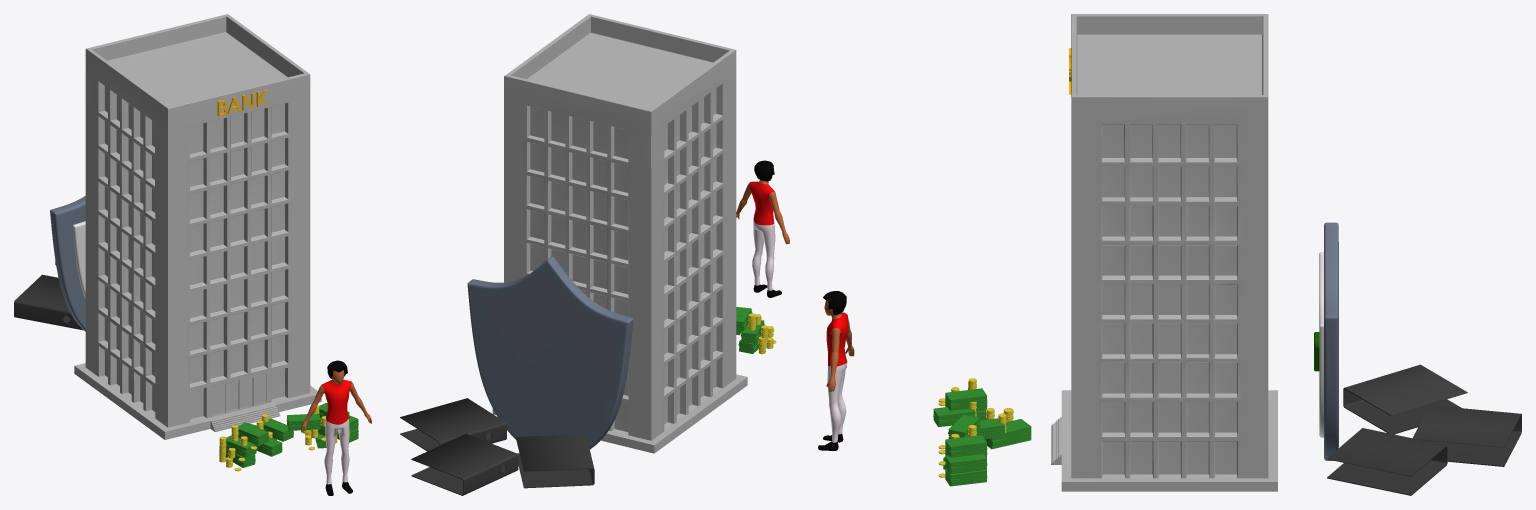
The picture shows the model from 3 angles, left to right: view 1: azimuth 30°, elevation 25°; view 2: azimuth 150°, elevation 25°; view 3: azimuth 270°, elevation 25°; orthographic projection. The views are drawn at different scales.
Visible parts, largest first — view 1: bank, corpo.001, shield_1, low_poly__0.001, shield.001_2, Money_0.010, Money_0.004, Money_0.013, Money_0.012, Money_0; view 2: bank, shield_1, low_poly, low_poly__0.001, low_poly__0.002, corpo.001, Money_0.010, Money_0.004; view 3: bank, low_poly__0.002, low_poly__0.001, low_poly, shield_1, corpo.001, Money_0.007, shield.001_2, Money_0.010, Money_0.002.
Boxes of the visible parts, x1,y1,x2,y2 form: bank: [74, 14, 321, 439]; corpo.001: [301, 370, 371, 495]; shield_1: [50, 196, 85, 331]; low_poly__0.001: [14, 274, 82, 330]; shield.001_2: [72, 221, 85, 298]; Money_0.010: [231, 423, 268, 449]; Money_0.004: [219, 435, 256, 461]; Money_0.013: [262, 413, 320, 430]; Money_0.012: [256, 418, 293, 442]; Money_0: [219, 446, 255, 471]; bank: [492, 14, 747, 453]; shield_1: [467, 256, 633, 449]; low_poly: [411, 434, 518, 495]; low_poly__0.001: [515, 434, 594, 488]; low_poly__0.002: [400, 398, 506, 451]; corpo.001: [736, 175, 789, 297]; Money_0.010: [736, 307, 761, 331]; Money_0.004: [740, 320, 774, 343]; bank: [1051, 14, 1277, 491]; low_poly__0.002: [1327, 428, 1447, 495]; low_poly__0.001: [1343, 364, 1467, 434]; low_poly: [1412, 405, 1521, 466]; shield_1: [1324, 222, 1338, 460]; corpo.001: [818, 300, 854, 450]; Money_0.007: [938, 425, 987, 457]; shield.001_2: [1319, 252, 1323, 437]; Money_0.010: [938, 378, 987, 410]; Money_0.002: [985, 408, 1031, 449].
Bounding box in the file's own units: 2.57 × 4.32 × 6.82.
